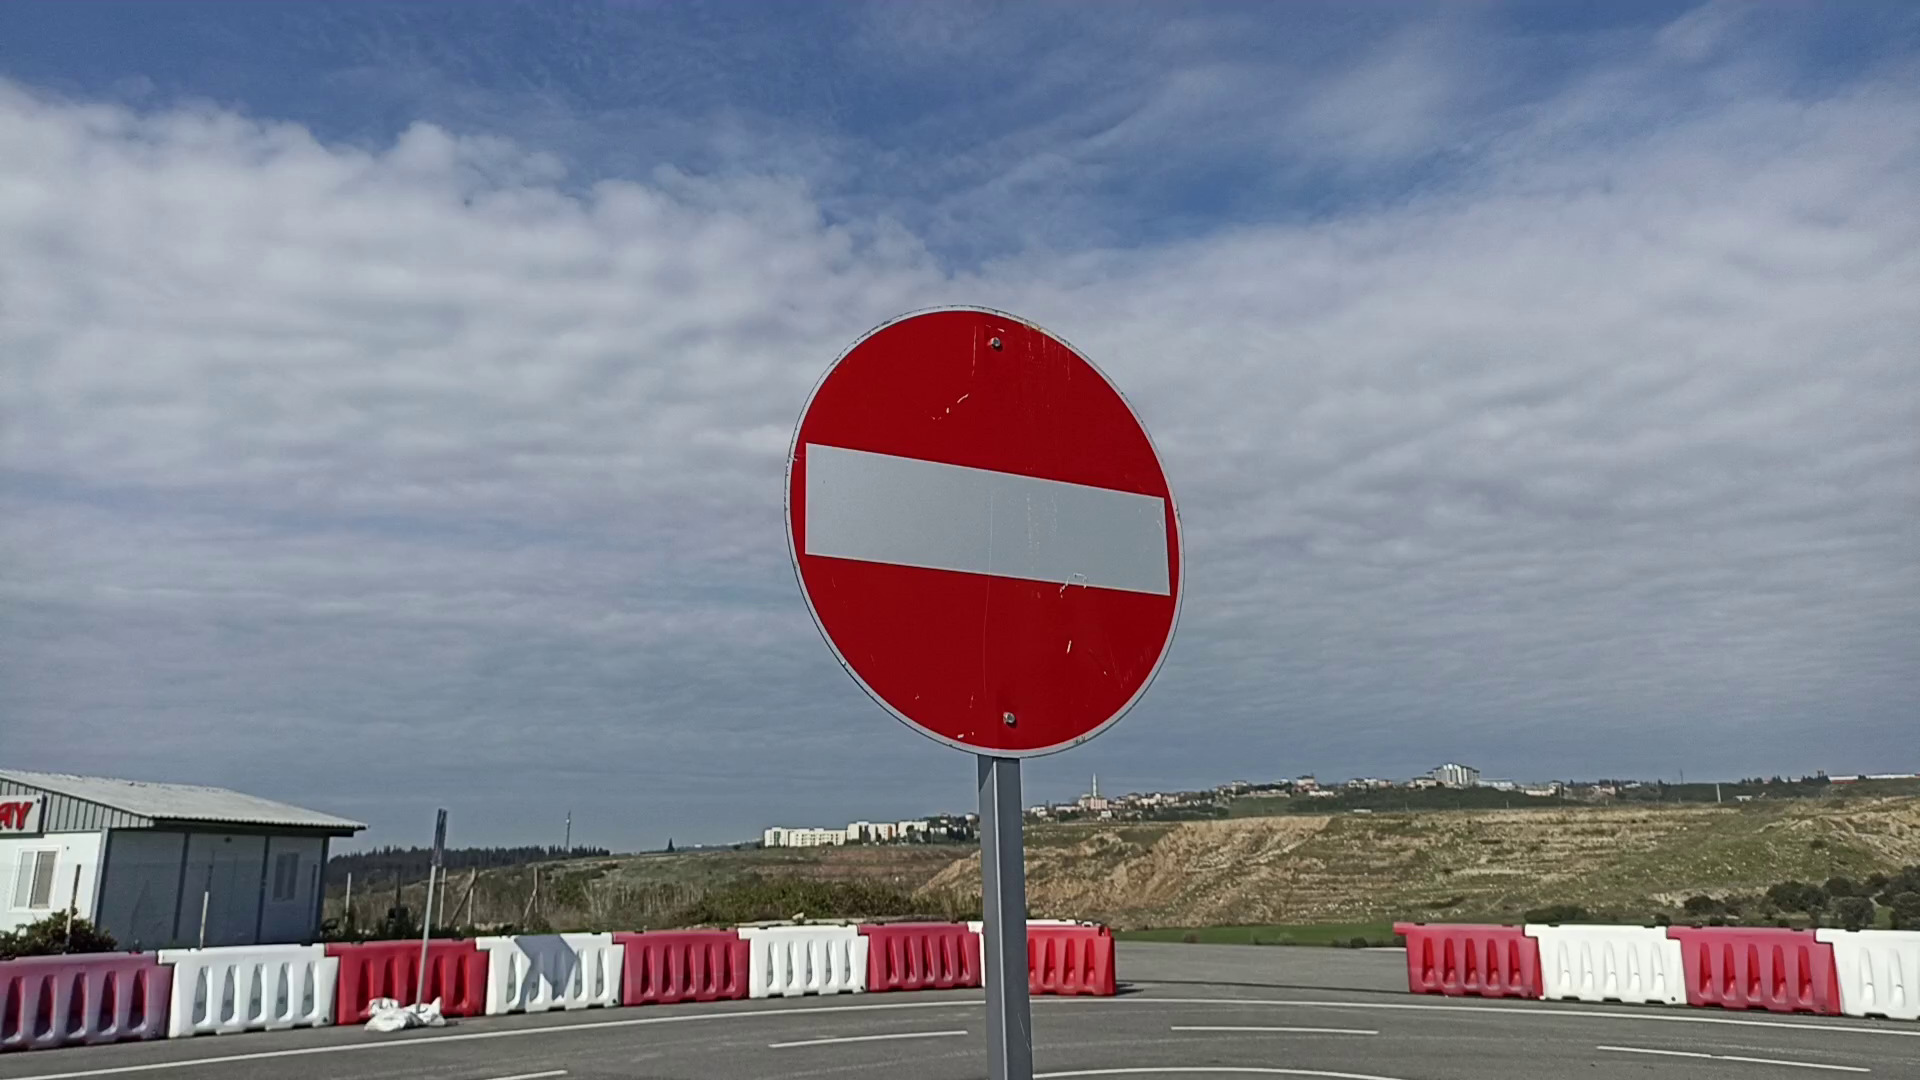noentryway: (775, 298, 1196, 767)
